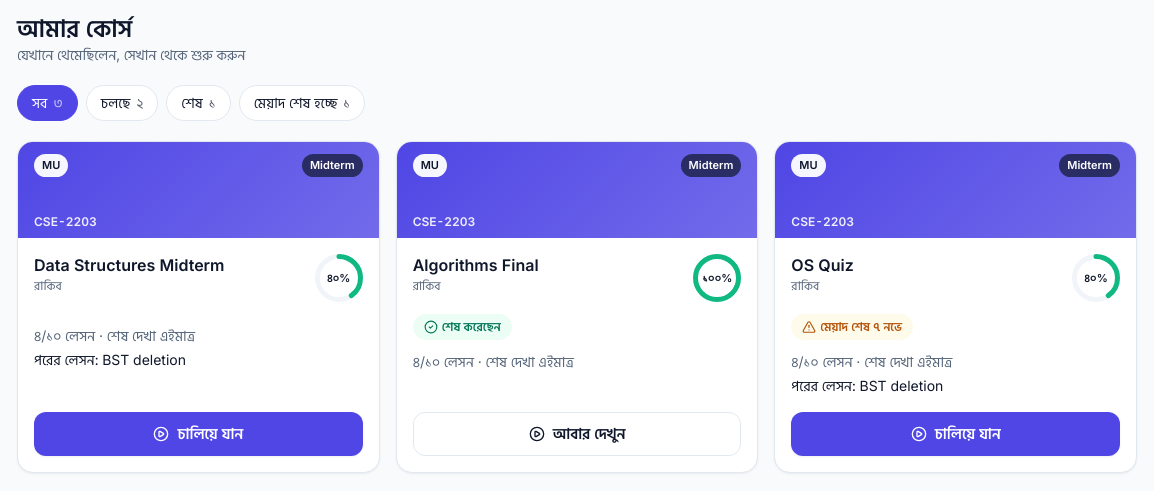
Scenario: learning › My Courses: filters by chip, resume link, expiring + completed badges
The image size is (1154, 491).
expect the link "Data Structures Midterm" is shown: met, box left=34, top=255, right=224, bottom=275
expect the link "আবার দেখুন" is shown: met, box left=413, top=412, right=741, bottom=456
Click the button "শেষ ১" at (199,103), box left=166, top=85, right=231, bottom=121
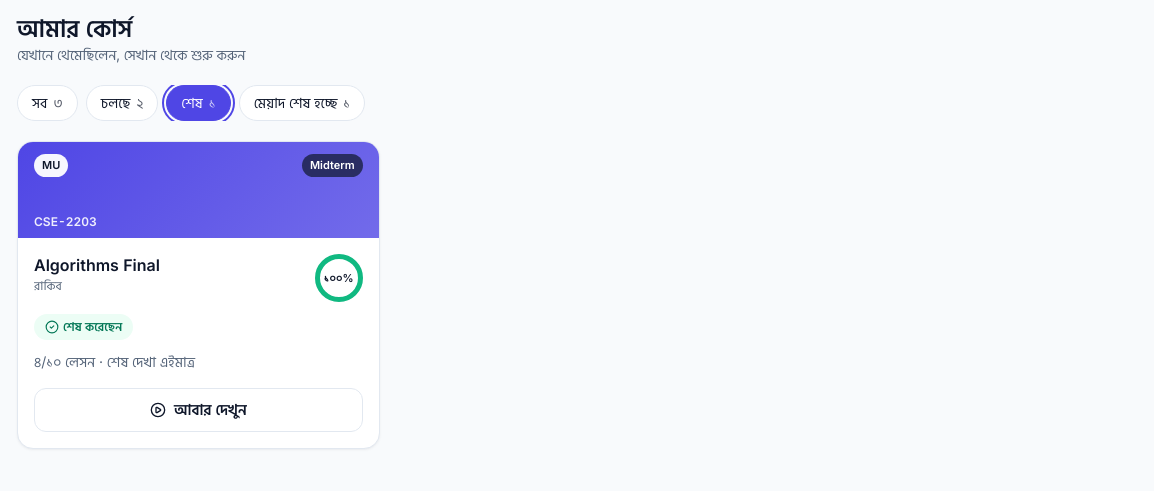
expect the link "Algorithms Final" is shown: met, box left=34, top=255, right=160, bottom=275
expect the link "Data Structures Midterm" is gone: met
Click the button "মেয়াদ শেষ হচ্ছে ১" at (302,103), box left=239, top=85, right=365, bottom=121
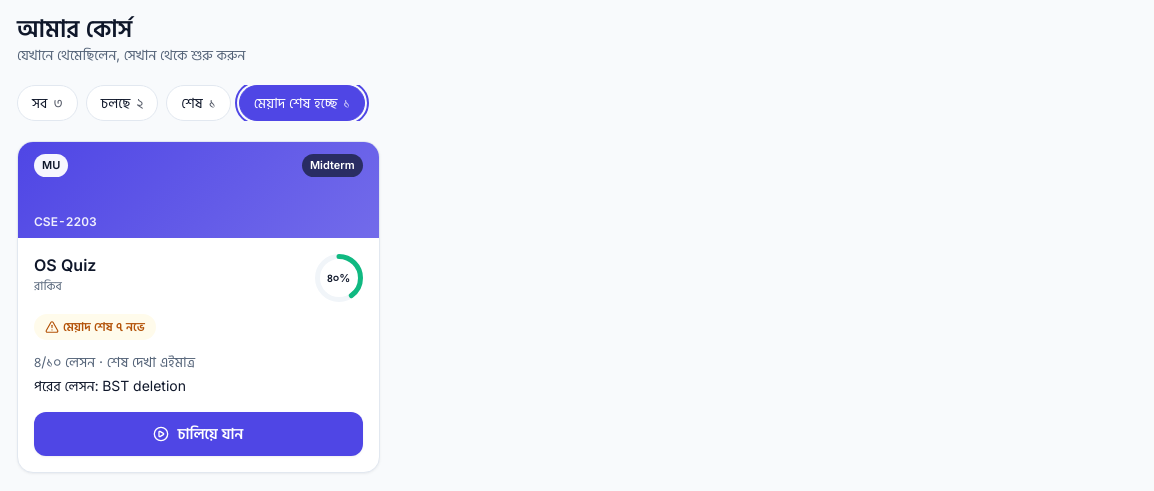
expect the link "OS Quiz" is shown: met, box left=34, top=255, right=96, bottom=275
